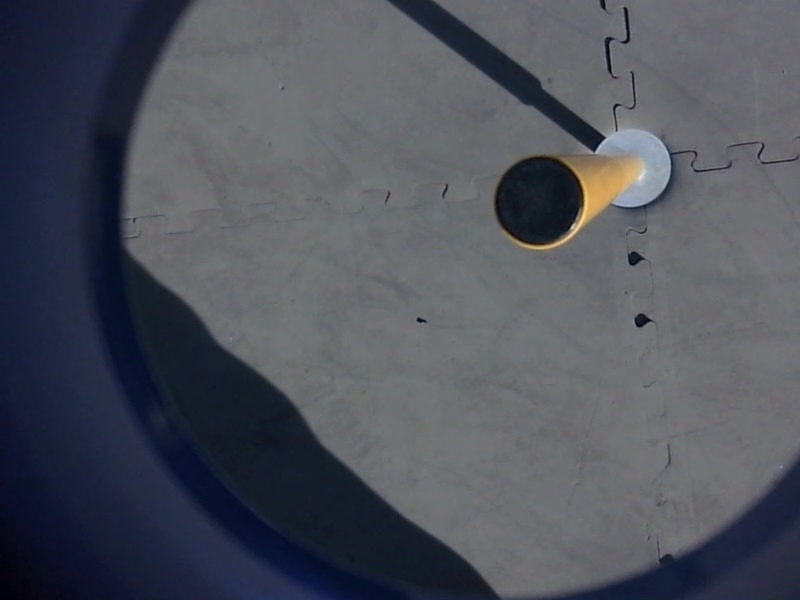tip: (484, 145, 596, 258)
